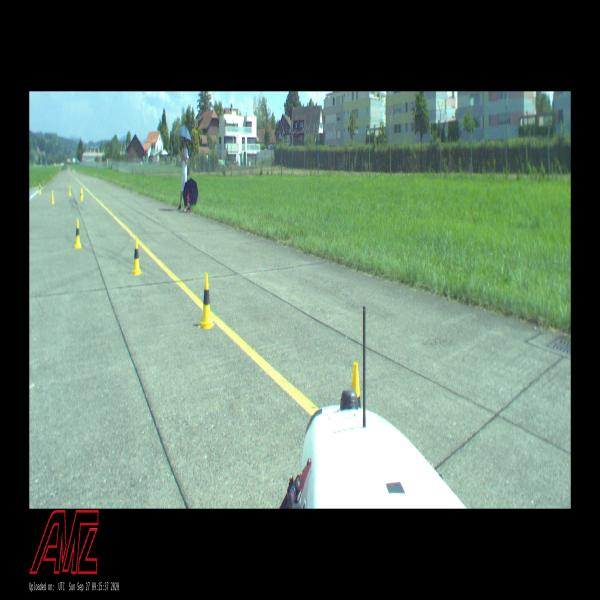yellow_cone: (199, 274, 214, 329), (351, 363, 361, 408), (132, 239, 141, 274), (74, 219, 81, 248), (51, 190, 55, 203), (81, 189, 83, 200), (39, 183, 41, 193), (69, 186, 71, 196)
